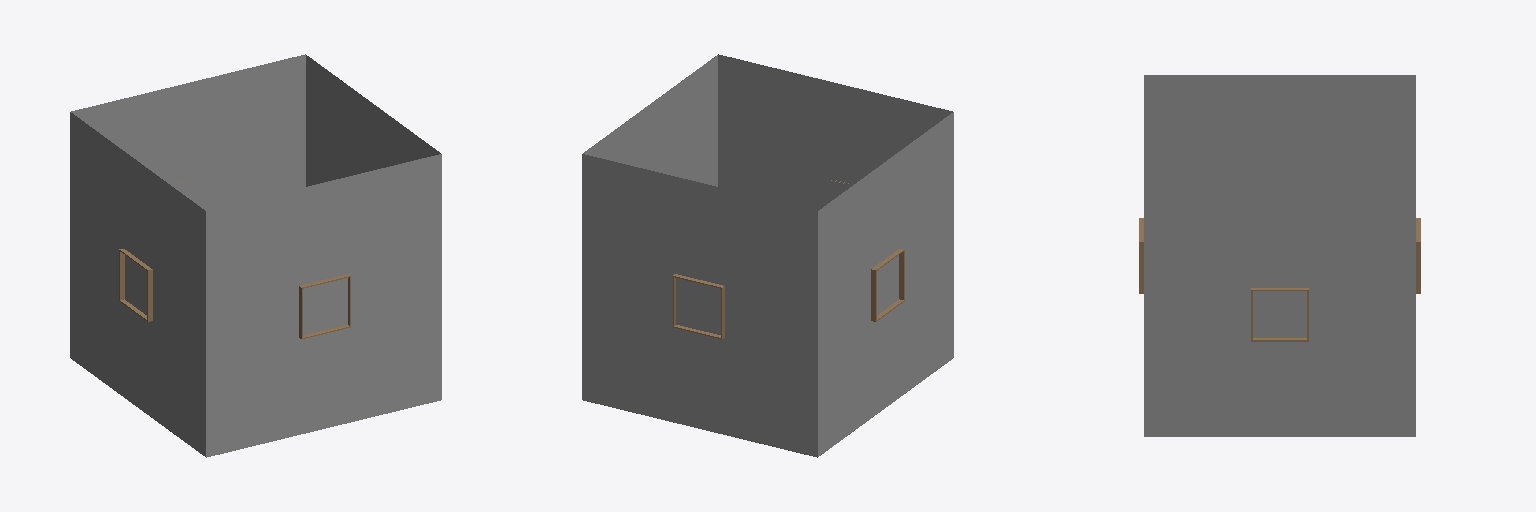
The model's file is walls.obj.
3 renders of one model, left to right at view 1: azimuth 30°, elevation 25°; view 2: azimuth 150°, elevation 25°; view 3: azimuth 270°, elevation 25°, orthographic.
Parts seen in each view (by area): view 1: Cube, Frame.002_Cube.003, Frame.000_Cube.001; view 2: Cube, Frame.002_Cube.003, Frame.001_Cube.002; view 3: Cube, Frame.003_Cube.004.
Part boxes in pixels (left/top/right/bottom): Cube: left=70, top=54, right=441, bottom=457; Frame.002_Cube.003: left=119, top=249, right=152, bottom=321; Frame.000_Cube.001: left=299, top=274, right=350, bottom=338; Cube: left=582, top=54, right=953, bottom=457; Frame.002_Cube.003: left=871, top=249, right=904, bottom=321; Frame.001_Cube.002: left=673, top=274, right=724, bottom=338; Cube: left=1144, top=75, right=1415, bottom=436; Frame.003_Cube.004: left=1251, top=288, right=1308, bottom=341.
Bounding box in the file's own units: 5.19 × 5 × 5.19.